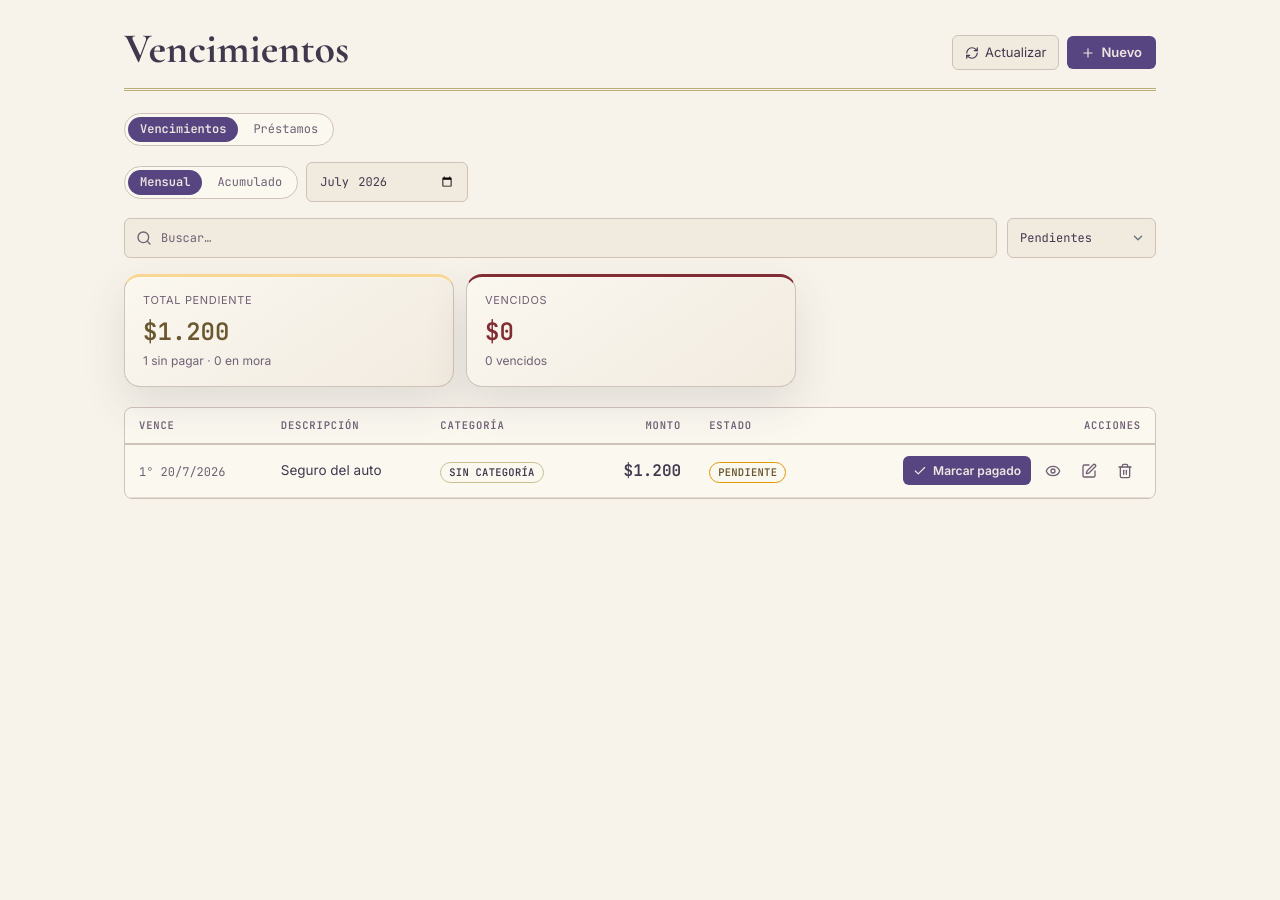
Test: ModernPendingPaymentsView document actions › shows the desktop Eye and opens the valid comprobante when url_pdf is invalid
The width and height of the screenshot is (1280, 900).
Click the button named "ver documento de seguro del auto" at (1053, 471), box [1037, 455, 1069, 487]
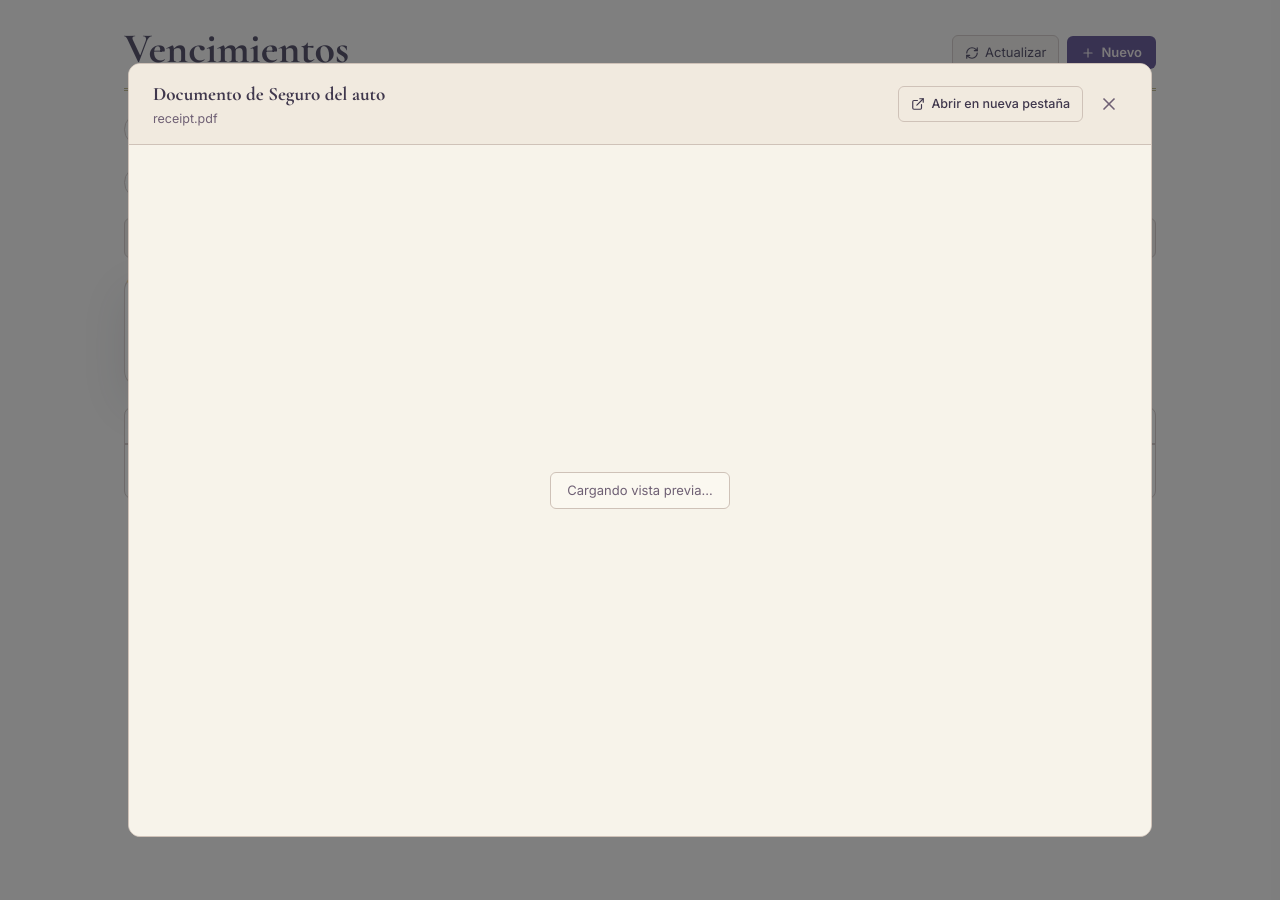
Expected: the dialog "Documento de Seguro del auto" is shown
